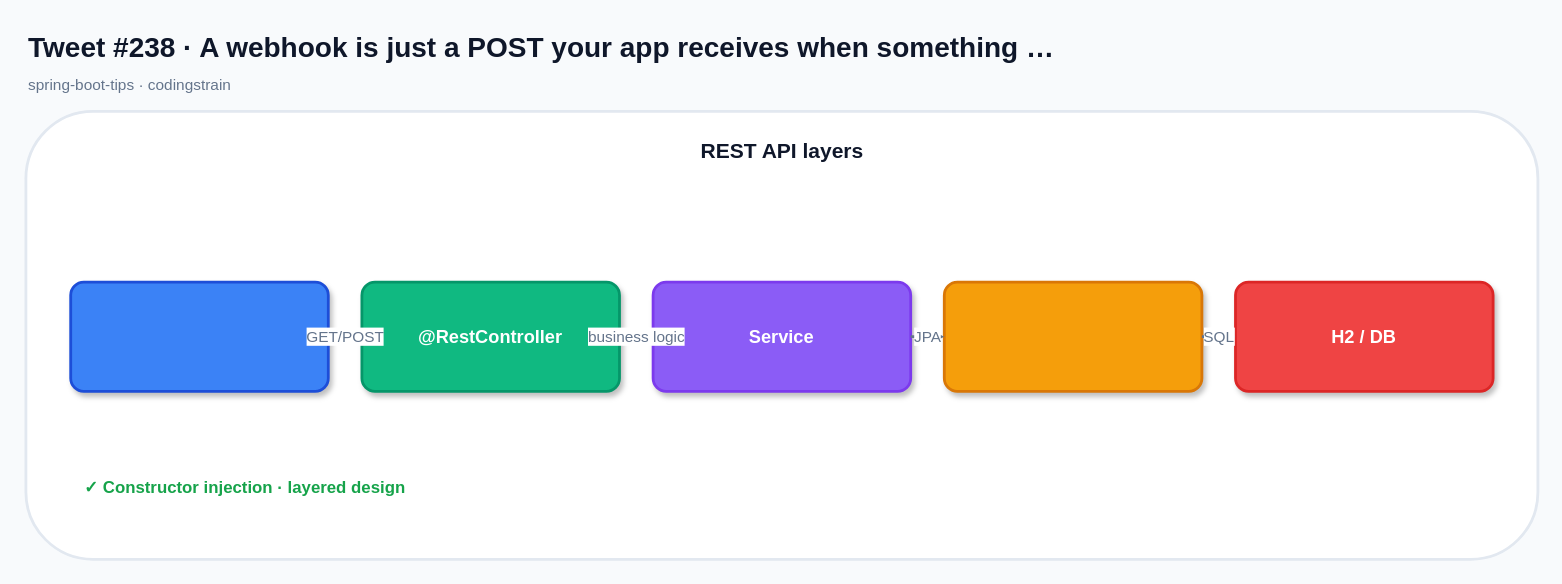
This 1562x584 diagram has some shape labels left out. Here are the shapes that lost their labels. From the top down, the centre of each, then its label:
pixel 200 338: HTTP Client
pixel 1074 338: Repository
